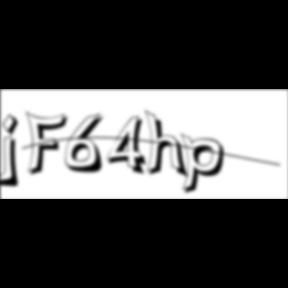4: (106, 115, 154, 179)
6: (66, 112, 110, 176)
F: (25, 110, 73, 178)
h: (144, 108, 192, 182)
j: (0, 113, 26, 191)
p: (181, 132, 231, 198)
